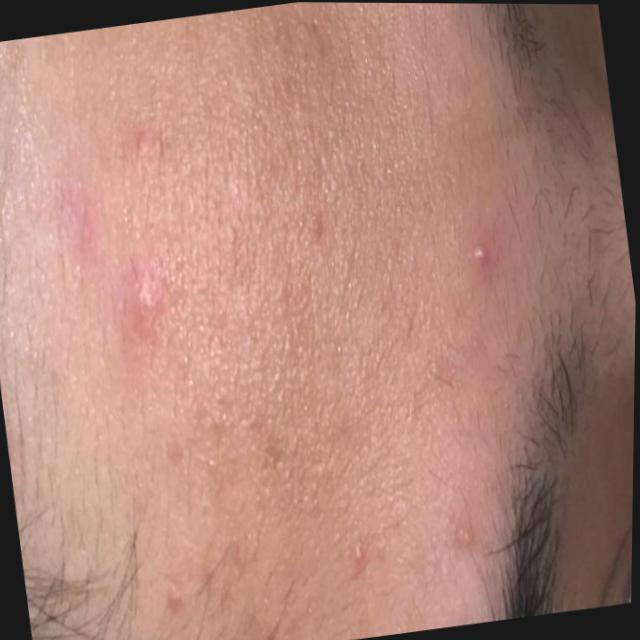papule: (35, 72, 208, 345)
pustule: (460, 233, 496, 273), (338, 533, 372, 574)
